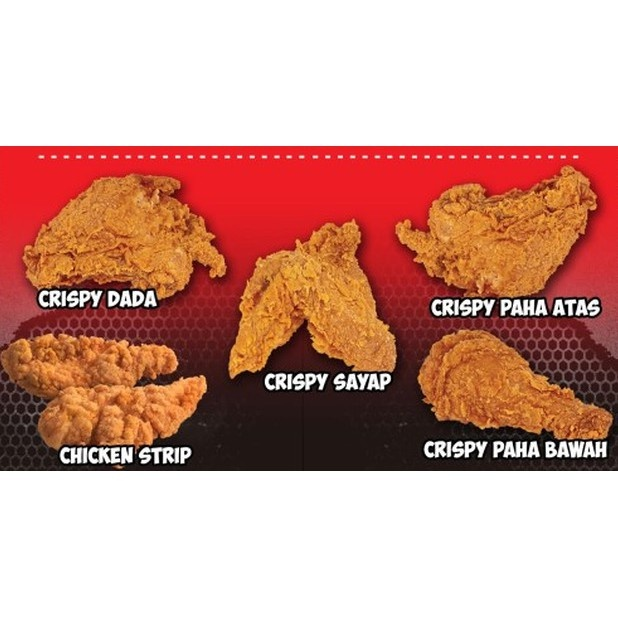ayam_goreng: (195, 215, 404, 373), (25, 150, 225, 296), (413, 329, 616, 440)
